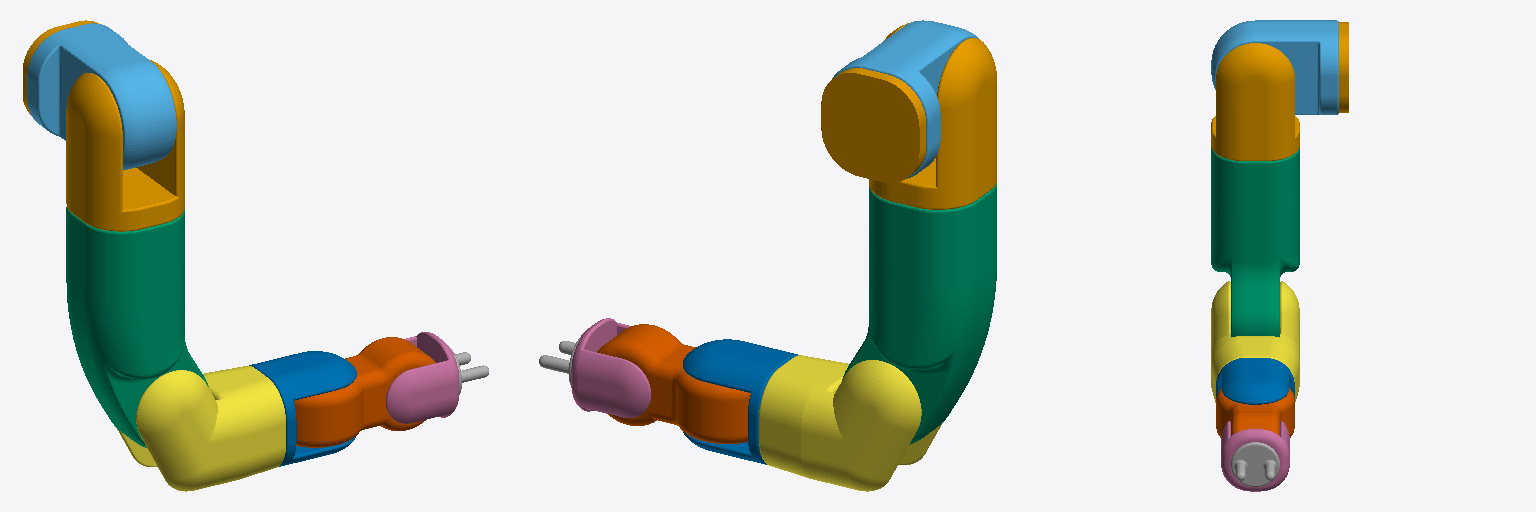
robot.urdf — 7dof_urdf:
<?xml version='1.0' encoding='utf-8'?>
<robot name="7dof_urdf">
    <link name="link_2">
        <inertial>
            <origin xyz="-0.03952607880115397 -7.87183651596024e-11 -0.02500000543490777" rpy="0.0 -0.0 0.0" />
            <mass value="2.979882734992265" />
            <inertia ixx="0.004109388239766435" iyy="0.006418233610608557" izz="0.004957923706044316" ixy="-3.215653177762734e-11" iyz="-8.44506700407332e-11" ixz="-1.779046010140983e-10" />
        </inertial>
        <visual name="link_2_visual">
            <origin xyz="-0.085 0.0 -0.024999999999999974" rpy="-0.0 1.5707963267948966 0" />
            <geometry>
                <mesh filename="meshes/link_2.stl" scale="0.001 0.001 0.001" />
            </geometry>
        </visual>
        <collision name="link_2_collision">
            <origin xyz="-0.085 0.0 -0.024999999999999974" rpy="-0.0 1.5707963267948966 0" />
            <geometry>
                <mesh filename="meshes/link_2.stl" scale="0.001 0.001 0.001" />
            </geometry>
        </collision>
    </link>
    <link name="link_1">
        <inertial>
            <origin xyz="-1.3358453465197302e-13 -1.2510643917589552e-10 0.05584017422892464" rpy="0.0 -0.0 0.0" />
            <mass value="4.5781679249113525" />
            <inertia ixx="0.008836478951234468" iyy="0.007460759562605522" izz="0.0040259717554885655" ixy="-9.516813834048548e-12" iyz="-8.319163950537849e-12" ixz="-3.1370176836326214e-14" />
        </inertial>
        <visual name="link_1_visual">
            <origin xyz="0.0 0.0 0.13" rpy="-1.5707963267948966 -0.0 0.0" />
            <geometry>
                <mesh filename="meshes/link_1.stl" scale="0.001 0.001 0.001" />
            </geometry>
        </visual>
        <collision name="link_1_collision">
            <origin xyz="0.0 0.0 0.13" rpy="-1.5707963267948966 -0.0 0.0" />
            <geometry>
                <mesh filename="meshes/link_1.stl" scale="0.001 0.001 0.001" />
            </geometry>
        </collision>
    </link>
    <link name="link_3">
        <inertial>
            <origin xyz="0.006313001202569603 -5.37863572347419e-09 0.09373395234679954" rpy="0.0 -0.0 0.0" />
            <mass value="9.849367155912846" />
            <inertia ixx="0.03793714589399133" iyy="0.039672677743592566" izz="0.010979504330028436" ixy="1.0419039199981162e-08" iyz="-1.5181024909383112e-09" ixz="-0.004960191886071146" />
        </inertial>
        <visual name="link_3_visual">
            <origin xyz="-2.6645352591003756e-17 8.881784197001253e-18 -1.7763568394002505e-17" rpy="3.141592653589793 -0.0 0.0" />
            <geometry>
                <mesh filename="meshes/link_3.stl" scale="0.001 0.001 0.001" />
            </geometry>
        </visual>
        <collision name="link_3_collision">
            <origin xyz="-2.6645352591003756e-17 8.881784197001253e-18 -1.7763568394002505e-17" rpy="3.141592653589793 -0.0 0.0" />
            <geometry>
                <mesh filename="meshes/link_3.stl" scale="0.001 0.001 0.001" />
            </geometry>
        </collision>
    </link>
    <link name="link_4">
        <inertial>
            <origin xyz="0.04846683466566324 -0.03293830778022692 -0.02499998900129377" rpy="0.0 -0.0 0.0" />
            <mass value="4.2776469384488465" />
            <inertia ixx="0.005985395948107042" iyy="0.008304810056541968" izz="0.00773545938265402" ixy="0.0014843269663658287" iyz="1.4692520949877164e-09" ixz="1.942723766579224e-09" />
        </inertial>
        <visual name="link_4_visual">
            <origin xyz="-1.7763568394002505e-17 -7.105427357601002e-17 -0.02499999999999999" rpy="-1.5707963267948966 -0.0 0.0" />
            <geometry>
                <mesh filename="meshes/link_4.stl" scale="0.001 0.001 0.001" />
            </geometry>
        </visual>
        <collision name="link_4_collision">
            <origin xyz="-1.7763568394002505e-17 -7.105427357601002e-17 -0.02499999999999999" rpy="-1.5707963267948966 -0.0 0.0" />
            <geometry>
                <mesh filename="meshes/link_4.stl" scale="0.001 0.001 0.001" />
            </geometry>
        </collision>
    </link>
    <link name="link_5-v1">
        <inertial>
            <origin xyz="-1.062326191458851e-09 7.241709543137631e-10 0.029282930406813037" rpy="0.0 -0.0 0.0" />
            <mass value="1.2770023533463133" />
            <inertia ixx="0.0011243052012639768" iyy="0.001737633001188288" izz="0.00146306717322775" ixy="-1.9080084734390823e-12" iyz="1.9818700500162656e-11" ixz="-2.790700309729388e-11" />
        </inertial>
        <visual name="link_5-v1_visual">
            <origin xyz="-1.7763568394002506e-16 1.2434497875801754e-16 0.0" rpy="0.0 -0.0 3.141592653589793" />
            <geometry>
                <mesh filename="meshes/link_5-v1.stl" scale="0.001 0.001 0.001" />
            </geometry>
        </visual>
        <collision name="link_5-v1_collision">
            <origin xyz="-1.7763568394002506e-16 1.2434497875801754e-16 0.0" rpy="0.0 -0.0 3.141592653589793" />
            <geometry>
                <mesh filename="meshes/link_5-v1.stl" scale="0.001 0.001 0.001" />
            </geometry>
        </collision>
    </link>
    <link name="link_6-v1">
        <inertial>
            <origin xyz="0.025005212281838853 -1.911312160984835e-08 -0.03321313333405687" rpy="0.0 -0.0 0.0" />
            <mass value="3.493951944589778" />
            <inertia ixx="0.006949534318566569" iyy="0.006734705172640132" izz="0.0018937373742333174" ixy="1.5093234301266634e-10" iyz="-1.7548580921733503e-09" ixz="3.373713313992166e-07" />
        </inertial>
        <visual name="link_6-v1_visual">
            <origin xyz="0.02499999999999986 -6.217248937900877e-17 1.4210854715202004e-16" rpy="-1.5707963267948968 -3.0189874454731085e-48 -3.141592653589793" />
            <geometry>
                <mesh filename="meshes/link_6-v1.stl" scale="0.001 0.001 0.001" />
            </geometry>
        </visual>
        <collision name="link_6-v1_collision">
            <origin xyz="0.02499999999999986 -6.217248937900877e-17 1.4210854715202004e-16" rpy="-1.5707963267948968 -3.0189874454731085e-48 -3.141592653589793" />
            <geometry>
                <mesh filename="meshes/link_6-v1.stl" scale="0.001 0.001 0.001" />
            </geometry>
        </collision>
    </link>
    <link name="link_7-v1">
        <inertial>
            <origin xyz="0.023421590518569707 0.024999677602399677 5.6249555768772554e-08" rpy="0.0 -0.0 0.0" />
            <mass value="0.6086791712424446" />
            <inertia ixx="0.0004926964088955016" iyy="0.0003514587577441164" izz="0.0005842271225232135" ixy="-3.5404794321985955e-09" iyz="4.2253265122860206e-11" ixz="6.19772733134738e-10" />
        </inertial>
        <visual name="link_7-v1_visual">
            <origin xyz="-0.03500000000000014 0.025000000000001174 -1.4210854715202004e-16" rpy="1.5707963267948968 1.224646799147352e-16 1.5707963267948968" />
            <geometry>
                <mesh filename="meshes/link_7-v1.stl" scale="0.001 0.001 0.001" />
            </geometry>
        </visual>
        <collision name="link_7-v1_collision">
            <origin xyz="-0.03500000000000014 0.025000000000001174 -1.4210854715202004e-16" rpy="1.5707963267948968 1.224646799147352e-16 1.5707963267948968" />
            <geometry>
                <mesh filename="meshes/link_7-v1.stl" scale="0.001 0.001 0.001" />
            </geometry>
        </collision>
    </link>
    <link name="end_effector-v1">
        <inertial>
            <origin xyz="0.007808473753499534 1.1990408665951691e-15 -1.4210854715202004e-16" rpy="0.0 -0.0 0.0" />
            <mass value="0.1100832579791584" />
            <inertia ixx="3.0965331709110686e-05" iyy="2.061833240113442e-05" izz="2.8644659203503828e-05" ixy="-2.168404344971009e-19" iyz="2.168404344971009e-19" ixz="-2.8774653041494396e-37" />
        </inertial>
        <visual name="end_effector-v1_visual">
            <origin xyz="-1.4210854715202004e-16 1.2079226507921704e-15 -1.4210854715202004e-16" rpy="-6.123233995736766e-17 1.5707963267948966 0" />
            <geometry>
                <mesh filename="meshes/end_effector-v1.stl" scale="0.001 0.001 0.001" />
            </geometry>
        </visual>
        <collision name="end_effector-v1_collision">
            <origin xyz="-1.4210854715202004e-16 1.2079226507921704e-15 -1.4210854715202004e-16" rpy="-6.123233995736766e-17 1.5707963267948966 0" />
            <geometry>
                <mesh filename="meshes/end_effector-v1.stl" scale="0.001 0.001 0.001" />
            </geometry>
        </collision>
    </link>
    <link name="base_link">
        <inertial>
            <origin xyz="8.797664231078658e-18 0.135 0.0" rpy="0.0 0.0 0.0" />
            <mass value="0.5072037603811039" />
            <inertia ixx="0.00026609900447170827" iyy="0.0005237446129370653" izz="0.00026609900447170827" ixy="2.6773250283440574e-19" iyz="3.346656285430072e-19" ixz="0.0" />
        </inertial>
        <visual name="base_link_visual">
            <origin xyz="0.0 0.0 0.0" rpy="0.0 0.0 0.0" />
            <geometry>
                <mesh filename="meshes/base_link.stl" scale="0.001 0.001 0.001" />
            </geometry>
        </visual>
        <collision name="base_link_collision">
            <origin xyz="0.0 0.0 0.0" rpy="0.0 0.0 0.0" />
            <geometry>
                <mesh filename="meshes/base_link.stl" scale="0.001 0.001 0.001" />
            </geometry>
        </collision>
    </link>
  <joint name="joint_2" type="revolute">
        <origin xyz="-0.025 0.0 0.085" rpy="-1.5707963267948966 -0.0 1.5707963267948966" />
        <parent link="link_1" />
        <child link="link_2" />
        <axis xyz="0.0 0.0 1.0" />
        <limit lower="-3.141592653589793" upper="3.141592653589793" effort="50" velocity="2.0" />
    </joint>

    <joint name="joint_3" type="revolute">
        <origin xyz="-0.085 0.0 -0.025" rpy="-3.141592653589793 1.5707963267948966 0" />
        <parent link="link_2" />
        <child link="link_3" />
        <axis xyz="0.0 0.0 1.0" />
        <limit lower="-3.141592653589793" upper="3.141592653589793" effort="50" velocity="2.0" />
    </joint>

    <joint name="joint_4" type="revolute">
        <origin xyz="0.03 0.025 0.18" rpy="-1.5707963267948966 -0.0 0.0" />
        <parent link="link_3" />
        <child link="link_4" />
        <axis xyz="0.0 0.0 1.0" />
        <limit lower="-3.141592653589793" upper="1.13" effort="50" velocity="2.0" />
    </joint>

    <joint name="joint_5" type="revolute">
        <origin xyz="0.1 -0.04 -0.025" rpy="1.5707963267948966 -0.0 1.5707963267948966" />
        <parent link="link_4" />
        <child link="link_5-v1" />
        <axis xyz="0.0 0.0 1.0" />
        <limit lower="-3.141592653589793" upper="3.141592653589793" effort="50" velocity="2.0" />
    </joint>

    <joint name="joint_6" type="revolute">
        <origin xyz="-0.025 0.0 0.05" rpy="-3.141592653589793 -0.0 0.0" />
        <parent link="link_5-v1" />
        <child link="link_6-v1" />
        <axis xyz="1.0 0.0 0.0" />
        <limit lower="-3.141592653589793" upper="3.141592653589793" effort="50" velocity="2.0" />
    </joint>

    <joint name="joint_7" type="revolute">
        <origin xyz="0.025 -0.025 -0.07600000000000001" rpy="9.183380086633855e-49 1.5707963267948966 0" />
        <parent link="link_6-v1" />
        <child link="link_7-v1" />
        <axis xyz="0.0 -1.0 9.183380086633855e-49" />
        <limit lower="-3.141592653589793" upper="3.141592653589793" effort="50" velocity="2.0" />
    </joint>

    <joint name="joint_8" type="revolute">
        <origin xyz="0.045 0.025 0.0" rpy="0.0 4.8271527307690255e-33 -4.4329578262884505e-81" />
        <parent link="link_7-v1" />
        <child link="end_effector-v1" />
        <axis xyz="1.0 0.0 -4.8271527307690255e-33" />
        <limit lower="-3.141592653589793" upper="3.141592653589793" effort="50" velocity="2.0" />
    </joint>

    <joint name="joint_1" type="revolute">
        <origin xyz="0.0 0.13 0.0" rpy="1.5707963267948966 -0.0 0.0" />
        <parent link="base_link" />
        <child link="link_1" />
        <axis xyz="0.0 0.0 1.0" />
        <limit lower="-3.141592653589793" upper="3.141592653589793" effort="50" velocity="2.0" />
    </joint>
</robot>

--- What the picture shows (computed from the rendered views, not written in the file) ---
3 views of the same robot in one strip: view 1: azimuth 30°, elevation 25°; view 2: azimuth 150°, elevation 25°; view 3: azimuth 270°, elevation 25° (orthographic).
Robot: 7dof_urdf — 9 links, 8 joints (8 revolute); root link base_link; default pose: every joint at zero.
Visible links, largest first — view 1: link_3, link_4, link_2, link_1, link_6-v1, link_5-v1, link_7-v1, base_link, end_effector-v1; view 2: link_3, link_4, link_2, base_link, link_6-v1, link_1, link_5-v1, link_7-v1, end_effector-v1; view 3: link_3, link_2, link_1, link_4, link_5-v1, link_6-v1, link_7-v1, end_effector-v1, base_link.
Boxes of the visible links, left/top/right/bottom form: link_3: left=66, top=207, right=208, bottom=447; link_4: left=117, top=366, right=285, bottom=491; link_2: left=66, top=60, right=184, bottom=231; link_1: left=27, top=23, right=176, bottom=169; link_6-v1: left=294, top=337, right=435, bottom=447; link_5-v1: left=249, top=351, right=356, bottom=466; link_7-v1: left=386, top=332, right=458, bottom=423; base_link: left=23, top=20, right=98, bottom=114; end_effector-v1: left=449, top=347, right=488, bottom=394; link_3: left=842, top=183, right=996, bottom=444; link_4: left=759, top=355, right=941, bottom=491; link_2: left=869, top=23, right=996, bottom=209; base_link: left=821, top=68, right=925, bottom=182; link_6-v1: left=597, top=324, right=750, bottom=443; link_1: left=832, top=20, right=978, bottom=178; link_5-v1: left=683, top=339, right=797, bottom=464; link_7-v1: left=571, top=318, right=650, bottom=417; end_effector-v1: left=539, top=333, right=583, bottom=384; link_3: left=1211, top=147, right=1299, bottom=336; link_2: left=1211, top=43, right=1299, bottom=160; link_1: left=1211, top=20, right=1338, bottom=114; link_4: left=1211, top=281, right=1299, bottom=402; link_5-v1: left=1216, top=358, right=1294, bottom=404; link_6-v1: left=1216, top=388, right=1294, bottom=437; link_7-v1: left=1221, top=421, right=1289, bottom=491; end_effector-v1: left=1231, top=442, right=1279, bottom=486; base_link: left=1339, top=22, right=1348, bottom=112.
Bounding box of the posed robot: 0.381 × 0.14 × 0.39 m (x, y, z).
Meshes: 9 distinct files referenced, 9 mesh visuals loaded (9 binary STL).